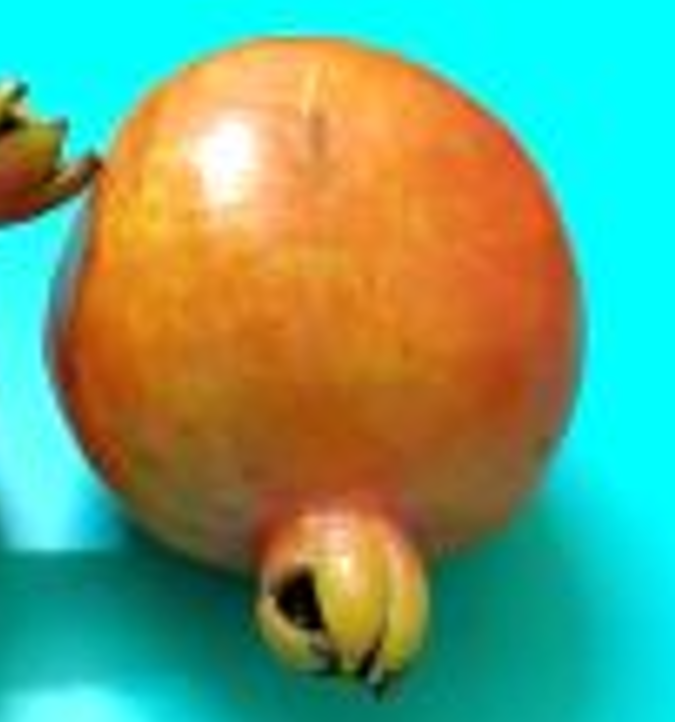pomegranate_B: (40, 36, 589, 698)
